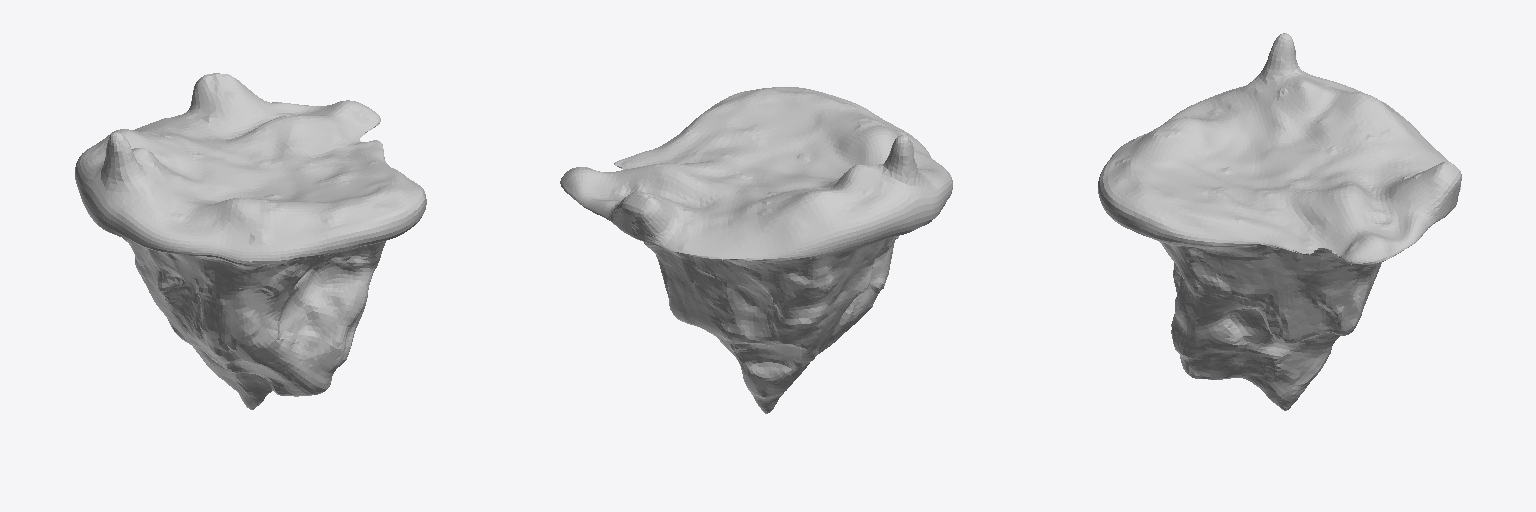
File: ostrov.OBJ
The picture shows the model from 3 angles: view 1: azimuth 30°, elevation 25°; view 2: azimuth 150°, elevation 25°; view 3: azimuth 270°, elevation 25°; orthographic projection.
Parts seen in each view (by area): view 1: ZBrushPolyMesh3D; view 2: ZBrushPolyMesh3D; view 3: ZBrushPolyMesh3D.
Part boxes in pixels (x1,y1,x2,y2): ZBrushPolyMesh3D: (75,73,426,409); ZBrushPolyMesh3D: (560,87,952,413); ZBrushPolyMesh3D: (1098,33,1461,410).
Bounding box in the file's own units: 19.53 × 17.86 × 18.99.